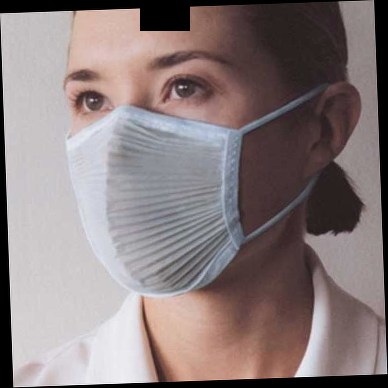with_mask: (64, 43, 302, 296)
